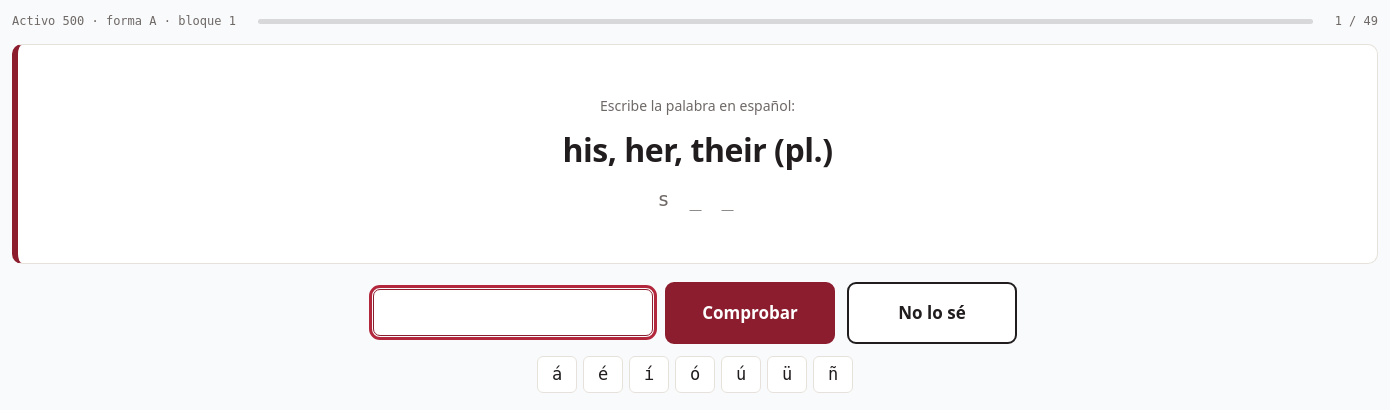
Scenario: the special-character row reaches every typed surface › a key inserts at the caret of the typed input, not at the end
Type "maana" into the field at x=513, y=313, box [373,289,653,336]
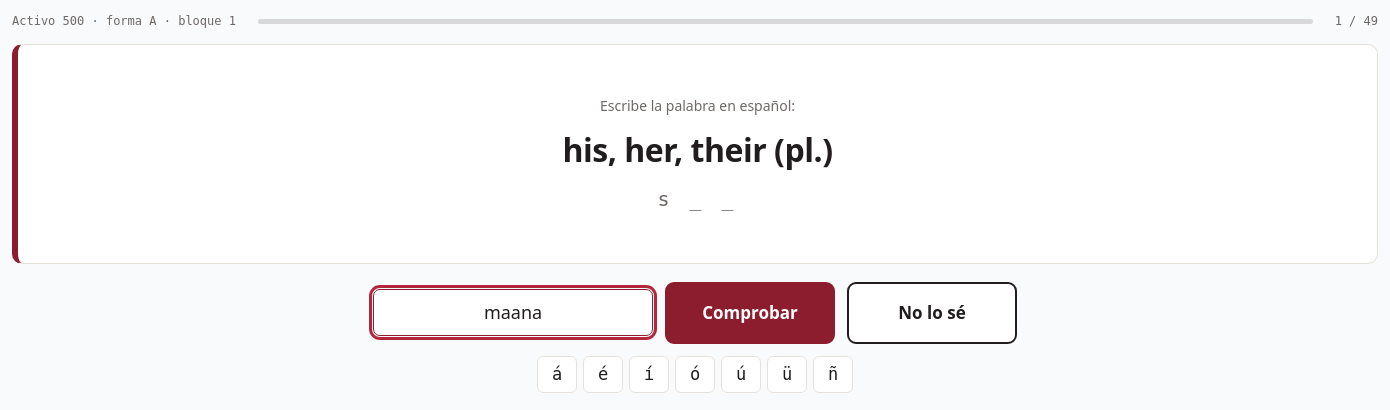
Click the button named "insertar ñ" at x=833, y=374, box [813,356,853,392]
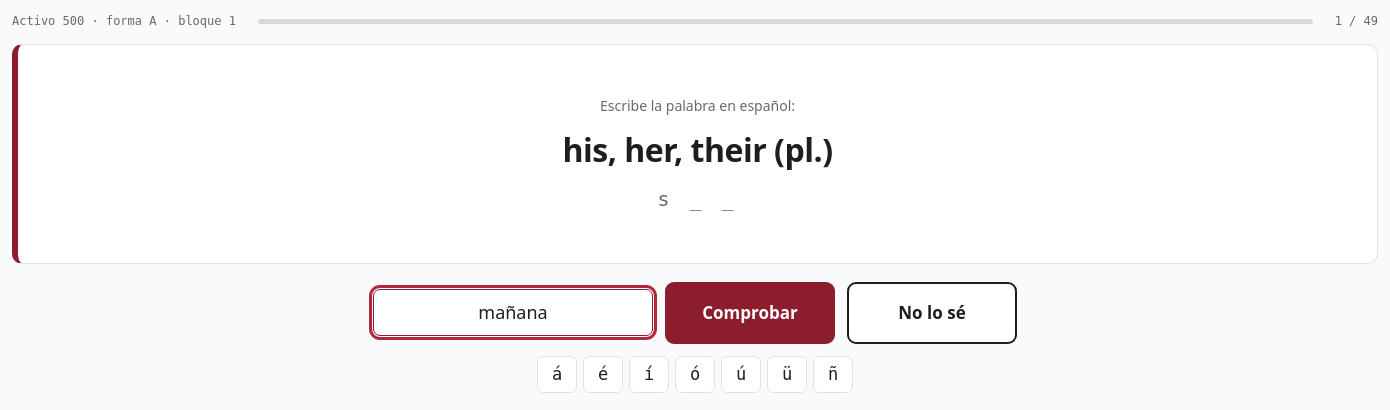
Expected: the field holds "mañana", [373,289,653,336]
